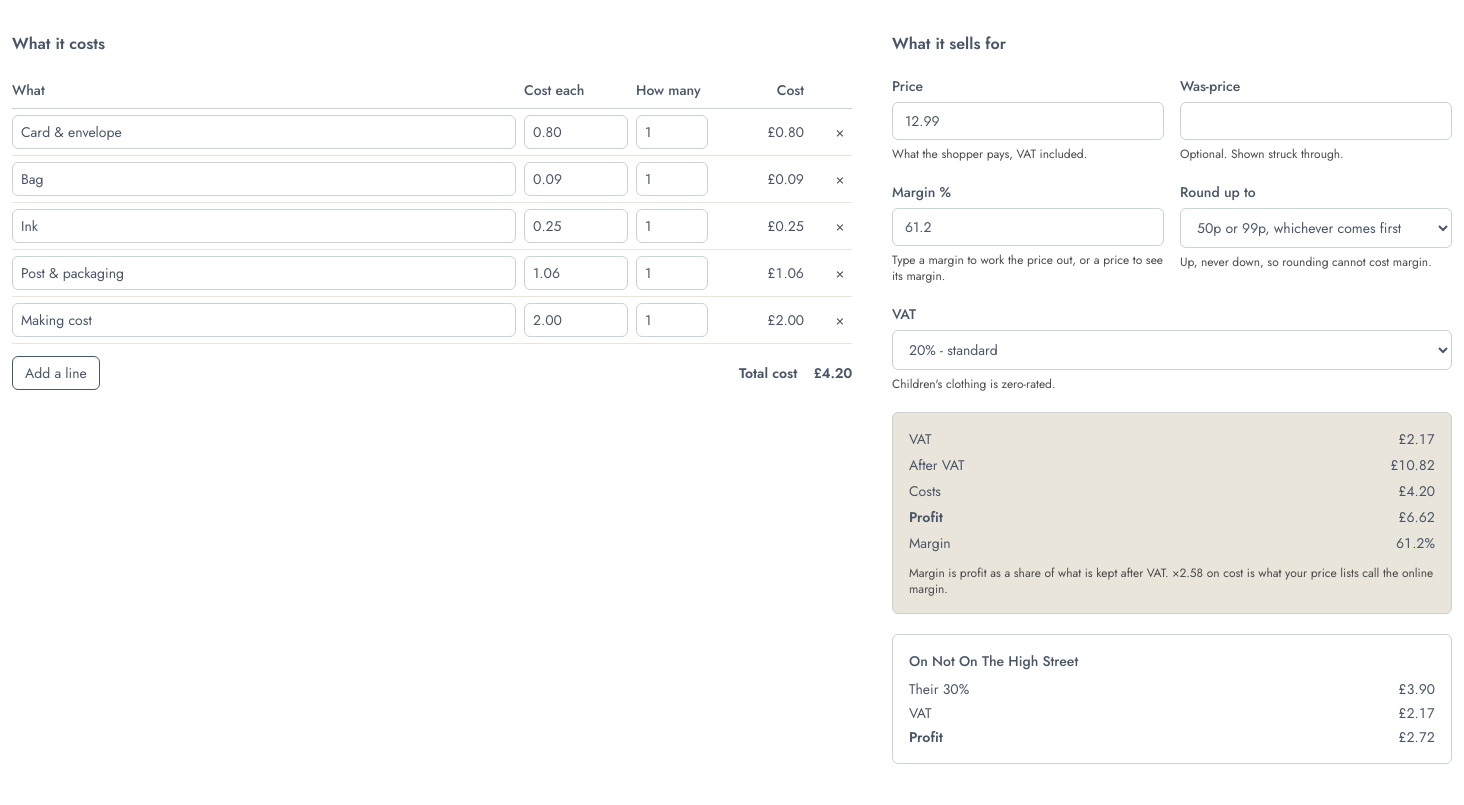
Test: PricingEditor › works the figures out again as the price is typed
Replace the text in the field labelled "Price" with "9.00" at coordinates (1028, 121), box left=892, top=102, right=1164, bottom=140
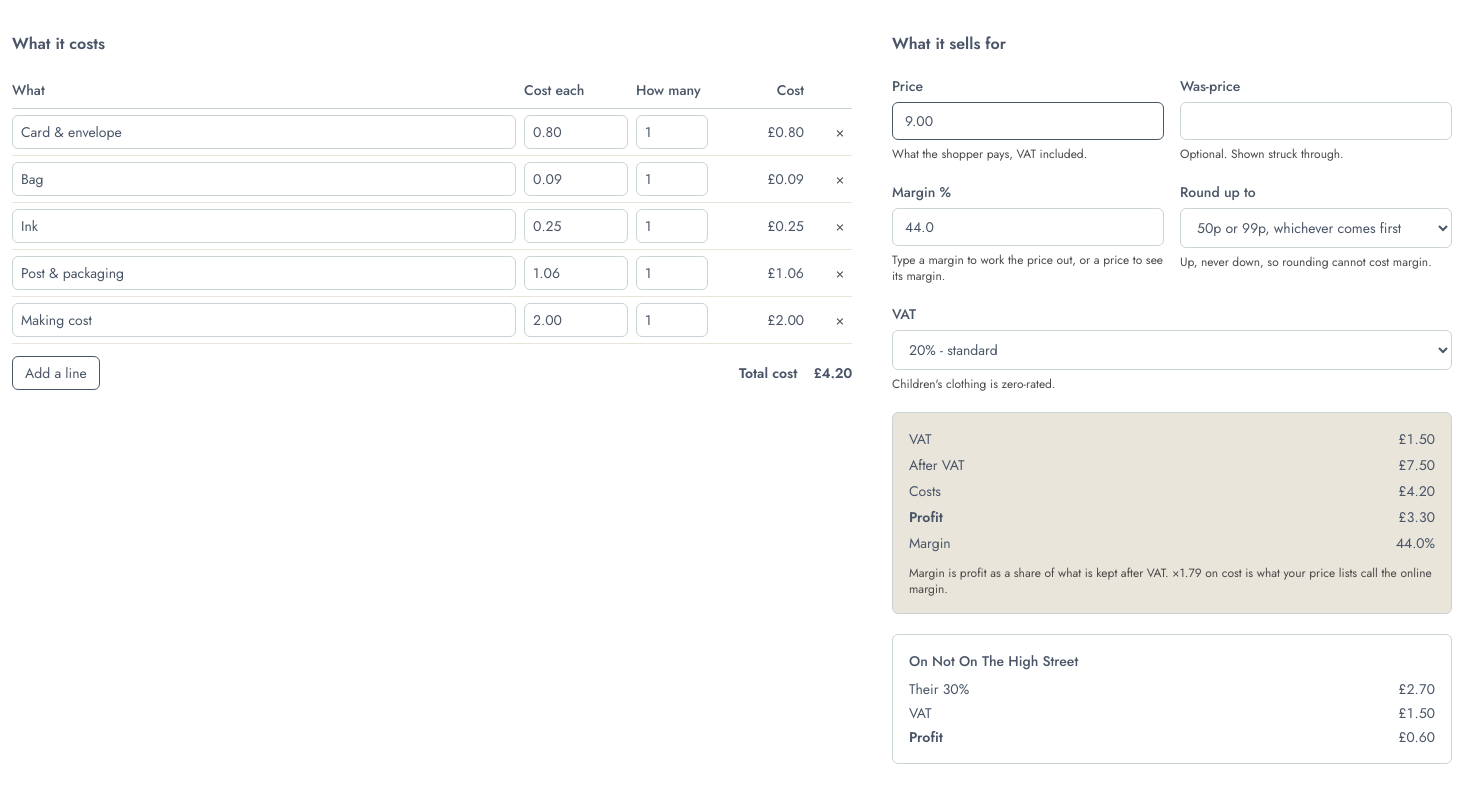
Now the text "£3.30" is shown, box left=1396, top=507, right=1435, bottom=527
